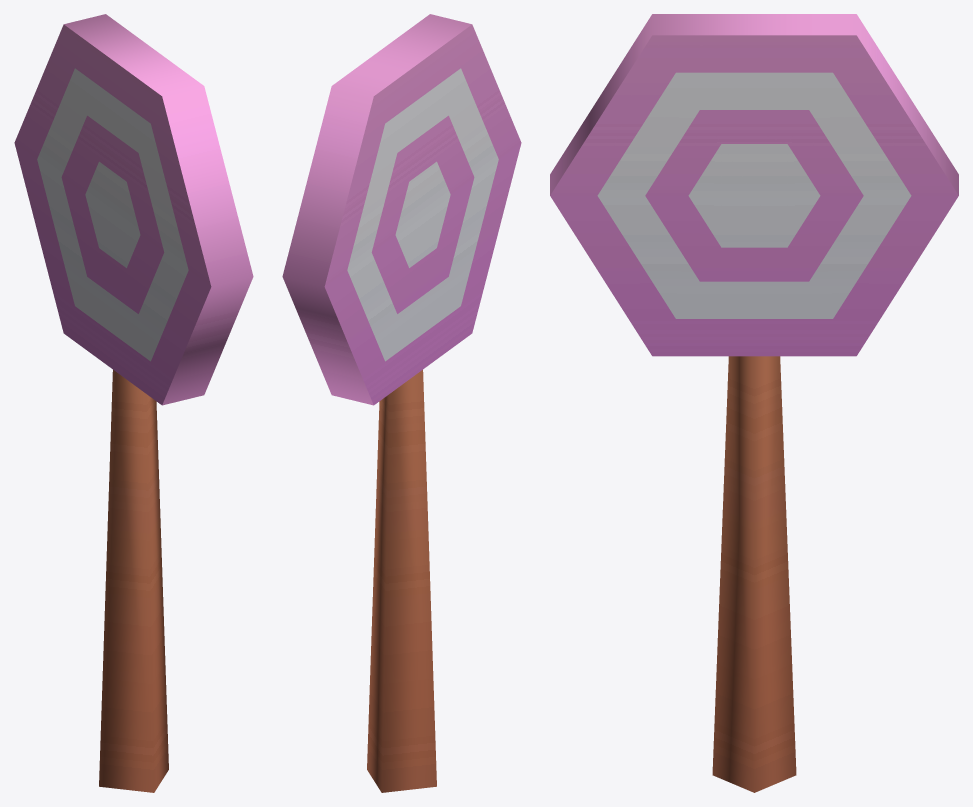
File: lollypop.glb
The picture shows the model from 3 angles, left to right: view 1: azimuth 30°, elevation 25°; view 2: azimuth 150°, elevation 25°; view 3: azimuth 270°, elevation 25°; orthographic projection. The views are drawn at different scales.
Parts seen in each view (by area): view 1: lollypop; view 2: lollypop; view 3: lollypop.
Part boxes in pixels (bbox=[...]): lollypop: bbox=[14, 14, 253, 792]; lollypop: bbox=[282, 14, 521, 792]; lollypop: bbox=[550, 14, 958, 792].
Size of the model in its own units: 0.0385 by 0.3798 by 0.1875.
1 material, 1 textured.
